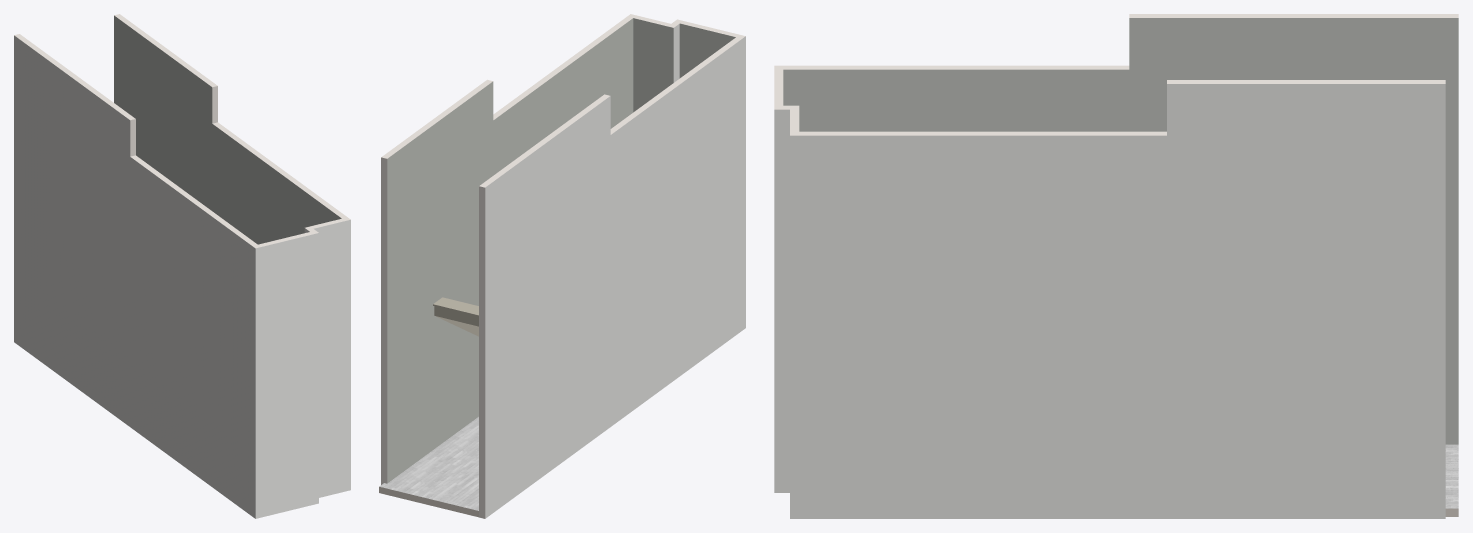
File: StairFromTheater.glb
3 renders of one model, left to right at view 1: azimuth 30°, elevation 25°; view 2: azimuth 150°, elevation 25°; view 3: azimuth 270°, elevation 25°, orthographic. The views are drawn at different scales.
Visible parts, largest first — view 1: wall_4, wall_7, wall_2, wall_0, wall_14, wall_8; view 2: wall_4, wall_7, floor_Other, wall_14, wall_8, wall_5, wall_9, joint_4, joint_5, stairs130, floor_Other_2; view 3: wall_1, wall_13, wall_3, wall_14, wall_8, floor_Other.
Part boxes in pixels (x1,y1,x2,y2): wall_4: (14,35,255,518); wall_7: (114,15,341,244); wall_2: (255,233,318,518); wall_0: (314,219,350,497); wall_14: (14,34,257,248); wall_8: (114,14,350,219); wall_4: (485,36,745,518); wall_7: (387,18,633,483); floor_Other: (379,417,478,510); wall_14: (479,36,744,518); wall_8: (381,14,632,484); wall_5: (633,18,673,112); wall_9: (679,23,735,78); joint_4: (381,158,387,484); joint_5: (479,186,485,517); stairs130: (433,297,478,336); floor_Other_2: (379,486,481,517); wall_1: (790,84,1445,518); wall_13: (783,18,1458,444); wall_3: (774,109,789,492); wall_14: (775,14,1458,69); wall_8: (790,80,1445,135); floor_Other: (1445,444,1458,508).
Bounding box in the file's own units: 1.79 × 5.19 × 7.39.
Materials: 14 (1 with a texture image).
